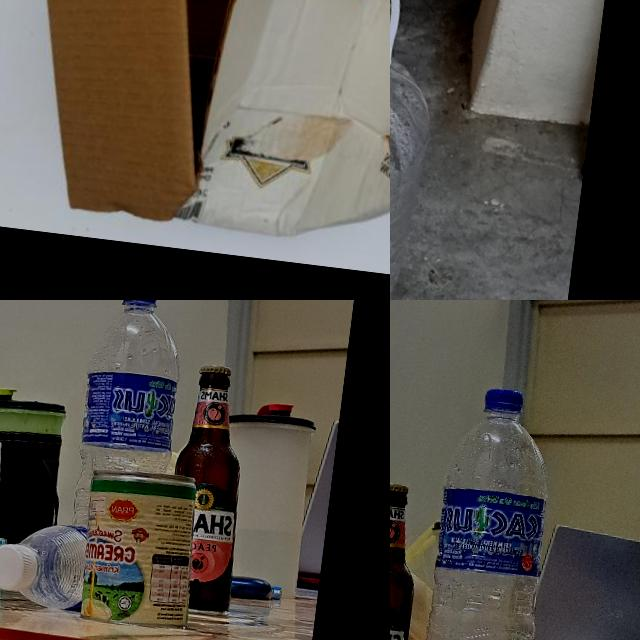garrafa de vidro: (158, 360, 255, 610), (390, 478, 428, 640)
garrafa plástica: (65, 300, 191, 593), (409, 408, 556, 640), (0, 511, 91, 614)
lata: (77, 461, 199, 629)
papelão: (0, 0, 390, 297)
tampa plástica: (0, 537, 41, 594), (484, 385, 522, 417), (117, 300, 162, 313)
